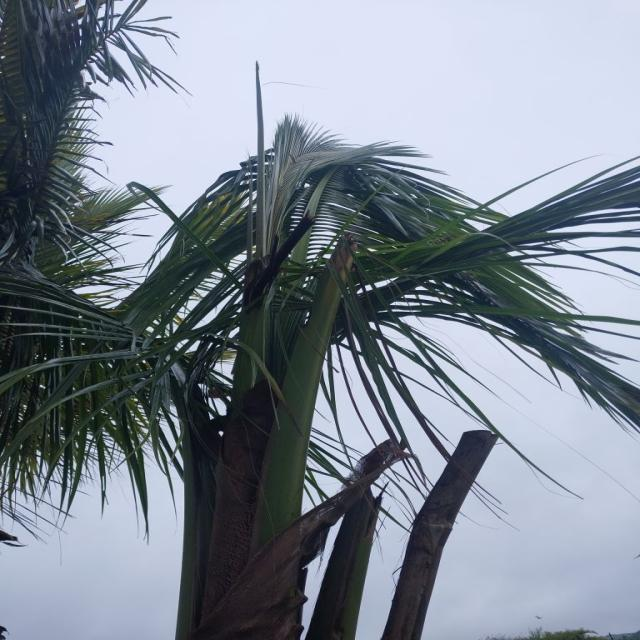bud root dropping: (3, 79, 637, 639)
